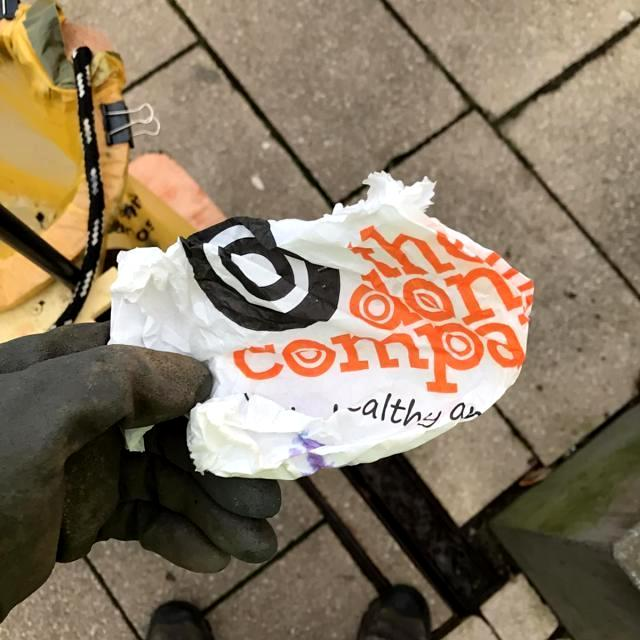Paper: (105, 166, 537, 484)
